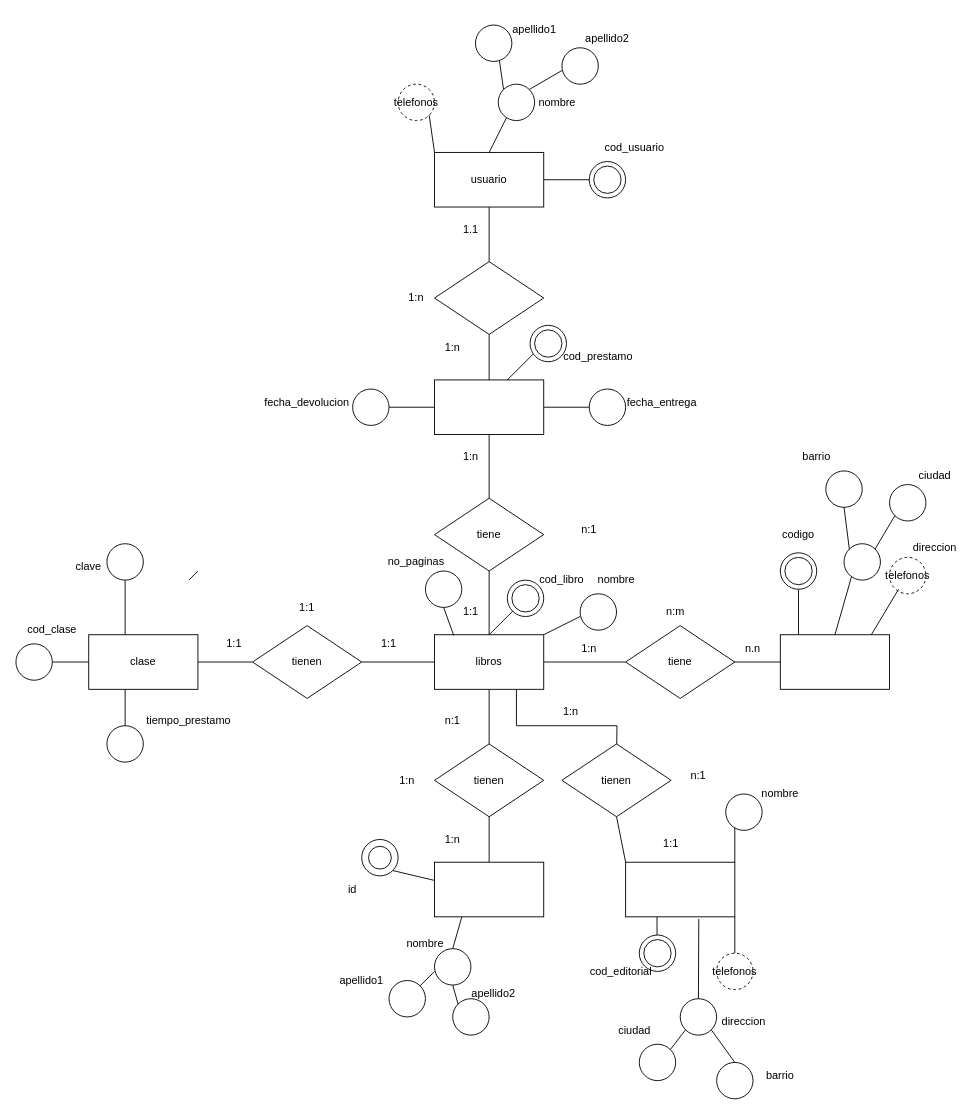
This 978x1115 diagram has some shape labels left out. The shapes that lost their labels are listed below. From the top down, each one's centre as x and y in pixels, then its label:
pixel 489 297: realiza
pixel 489 407: prestamos
pixel 834 661: Biblioteca
pixel 489 889: autores
pixel 680 889: editorial
